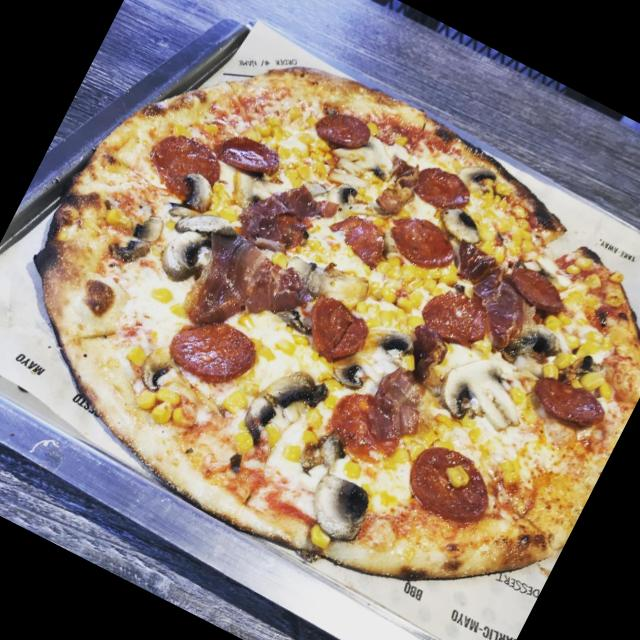mushrooms: (428, 335, 542, 446), (235, 352, 328, 458), (300, 462, 387, 546), (152, 212, 232, 292), (105, 200, 178, 274), (271, 253, 336, 330), (504, 311, 574, 374), (163, 165, 220, 226), (340, 130, 400, 187), (436, 199, 496, 253), (309, 159, 363, 217), (178, 197, 234, 246), (369, 317, 420, 365), (453, 152, 503, 200), (322, 347, 370, 394), (246, 162, 291, 208)
pepperoni: (397, 431, 508, 538), (137, 123, 236, 215), (166, 306, 260, 396), (324, 381, 410, 468), (296, 286, 378, 371), (524, 366, 612, 441), (416, 276, 500, 354), (385, 206, 467, 280), (498, 255, 578, 325), (326, 209, 398, 274), (406, 158, 472, 220), (220, 125, 288, 185), (312, 101, 372, 156), (254, 205, 313, 258)
pizza: (32, 66, 640, 584)
